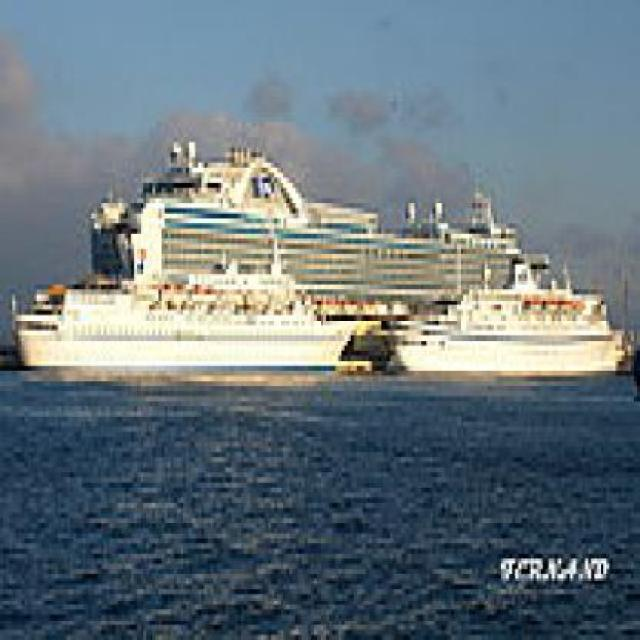cruise: (7, 250, 367, 387), (386, 256, 638, 397)
